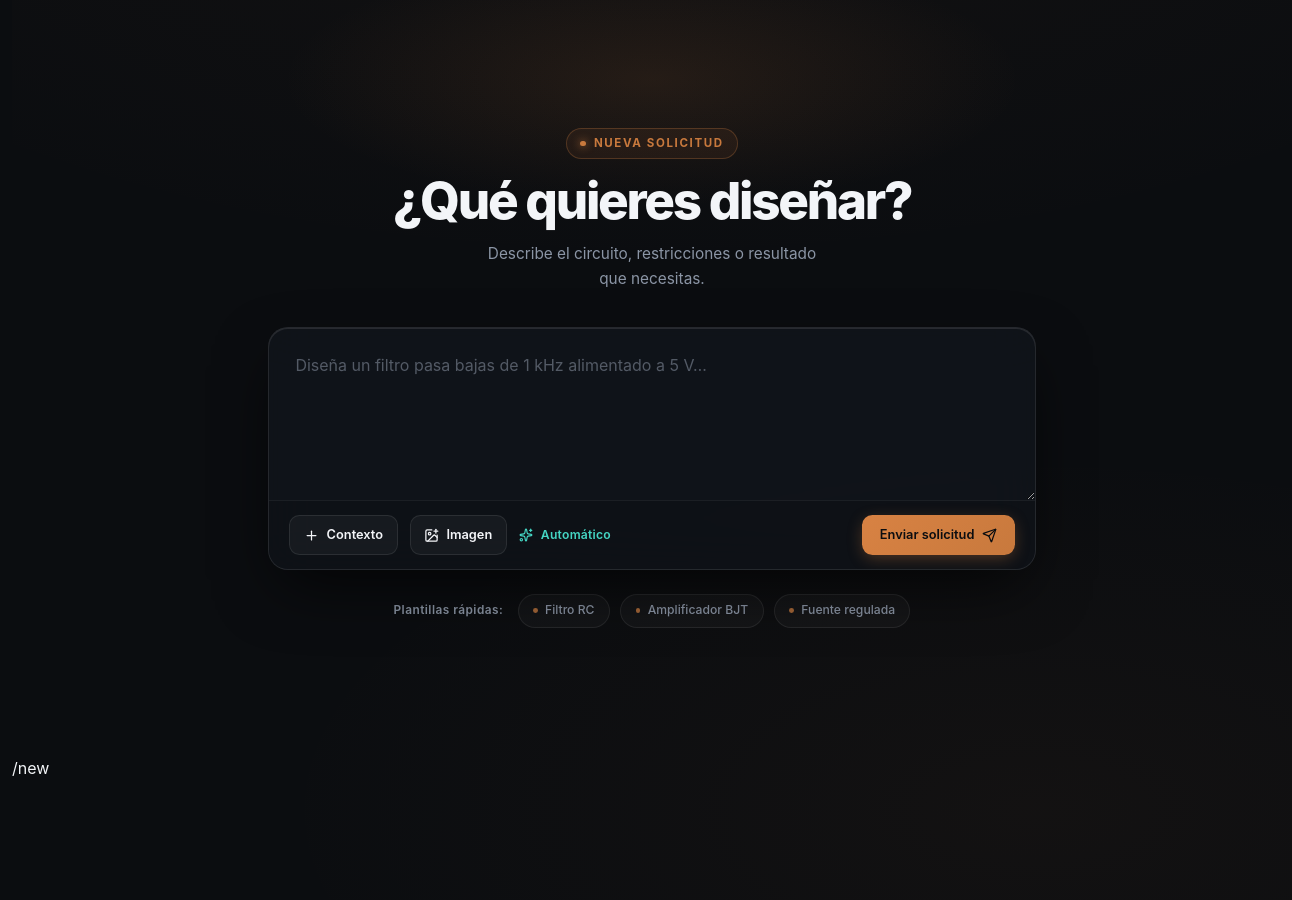
Scenario: shows a safe error and retains the request after service rejection
Type "Diseña una fuente regulada" into the text box at (652,414), box 269,328 -> 1035,500
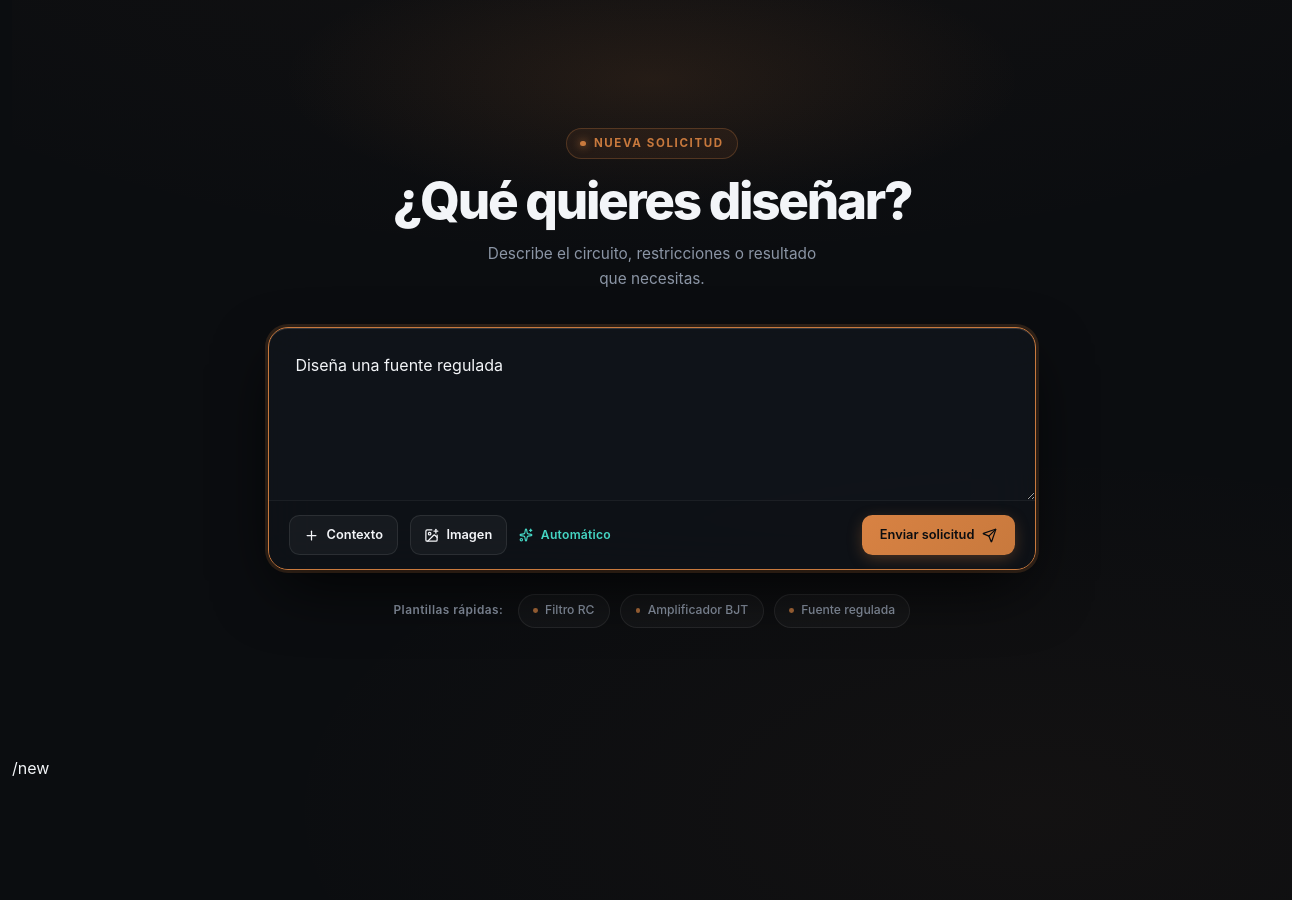
Click the button "Enviar solicitud" at (939,535), box 862,515 -> 1015,555
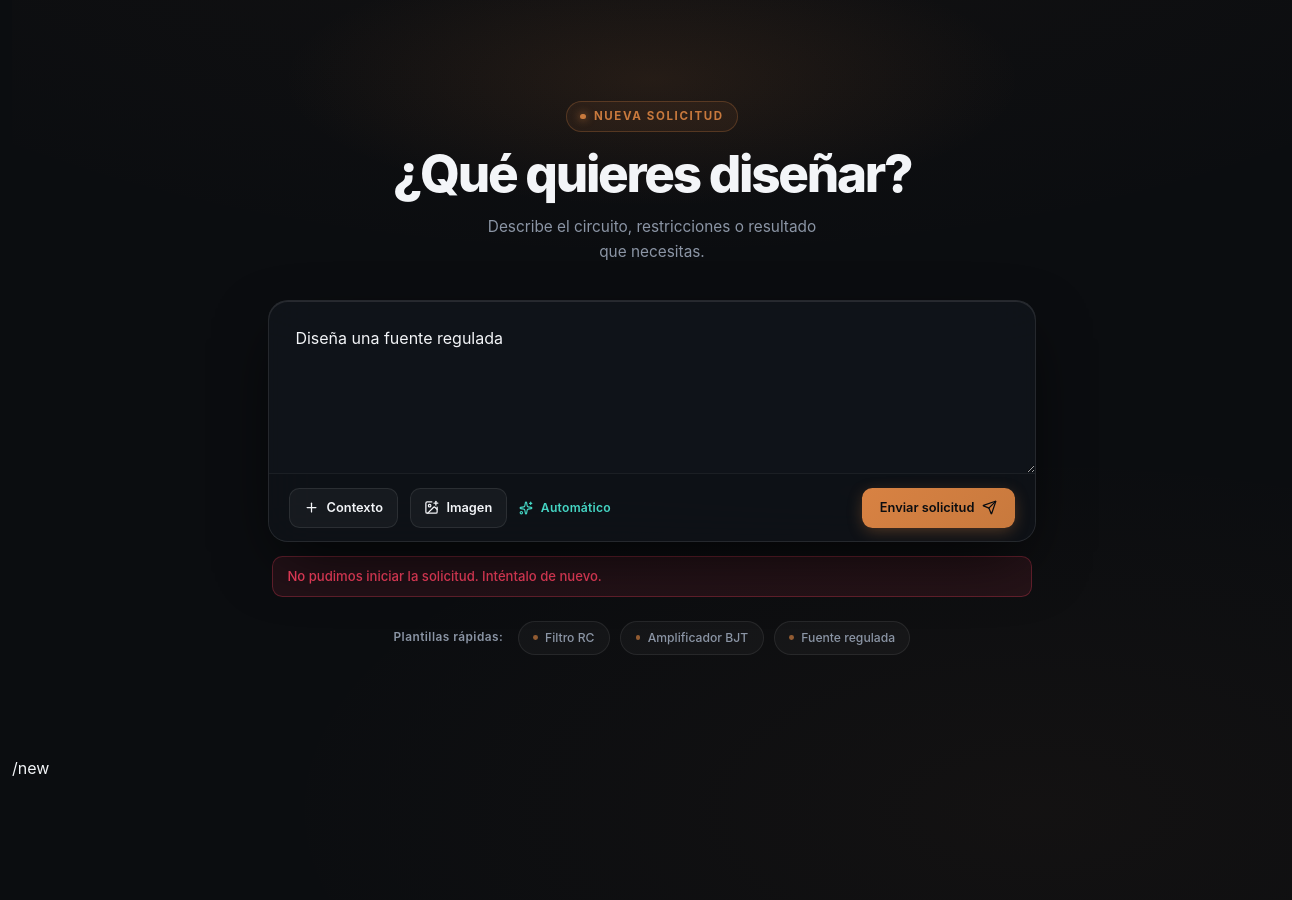
Expected: the text named "Ruta actual" reads "/new", 12,758 -> 49,778
Result: the message reads "No pudimos iniciar la solicitud. Inténtalo de nuevo." at 287,568 -> 602,584
